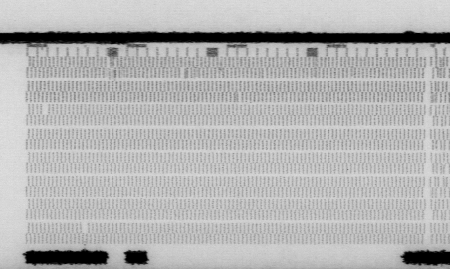Broken hole: (39, 102, 52, 116), (79, 220, 91, 234)
Oblique printing: (428, 56, 450, 245), (308, 55, 324, 81), (105, 56, 121, 80), (231, 91, 245, 104), (178, 67, 191, 80)
